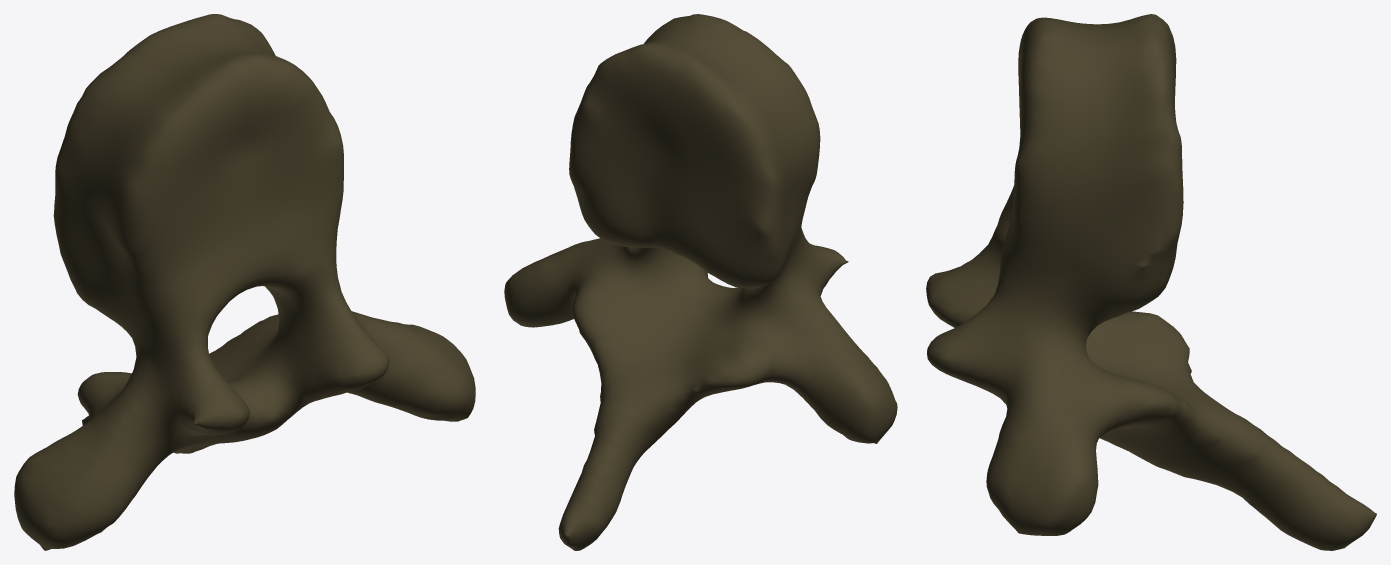
Rendered from segmentations_vertebrae_T7.obj.
The picture shows the model from 3 angles, left to right: view 1: azimuth 30°, elevation 25°; view 2: azimuth 150°, elevation 25°; view 3: azimuth 270°, elevation 25°; orthographic projection. The views are drawn at different scales.
Visible parts, largest first — view 1: grp1; view 2: grp1; view 3: grp1.
Part boxes in pixels (x1=…): grp1: x1=14, y1=14, x2=475, y2=550; grp1: x1=504, y1=14, x2=897, y2=550; grp1: x1=926, y1=14, x2=1376, y2=550.
Bounding box in the file's own units: 40.87 × 45.43 × 35.71.
